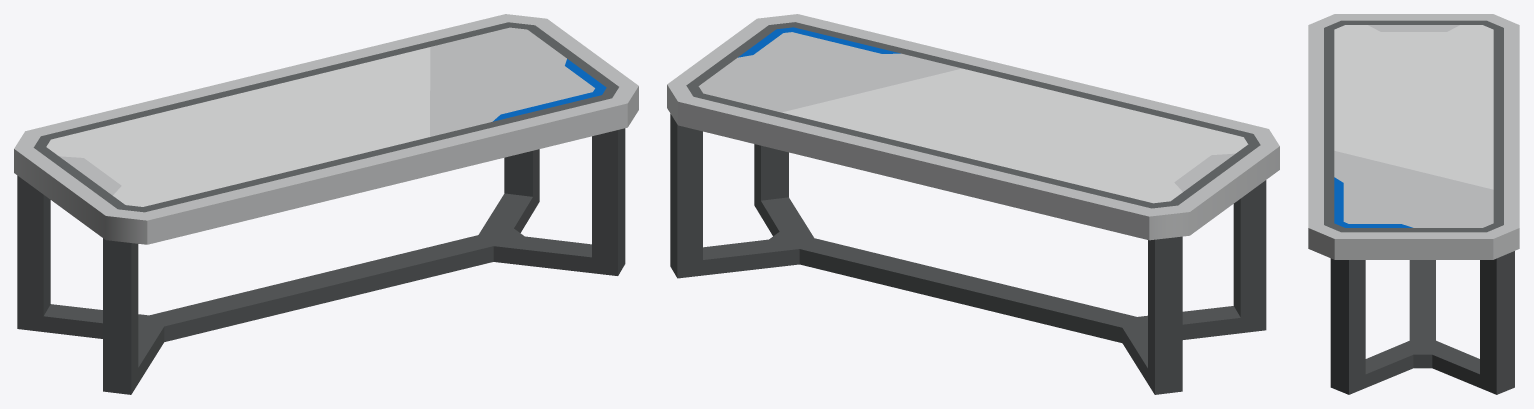
The model's file is Desk_022.fbx.
3 views of the same model, side by side, from view 1: azimuth 30°, elevation 25°; view 2: azimuth 150°, elevation 25°; view 3: azimuth 270°, elevation 25° (orthographic). The views are drawn at different scales.
Parts seen in each view (by area): view 1: Desk_022; view 2: Desk_022; view 3: Desk_022.
Boxes of the visible parts, left/top/right/bottom form: Desk_022: left=14, top=14, right=638, bottom=394; Desk_022: left=667, top=14, right=1279, bottom=394; Desk_022: left=1308, top=14, right=1519, bottom=394.
Size of the model in its own units: 244 by 96.98 by 80.17.
